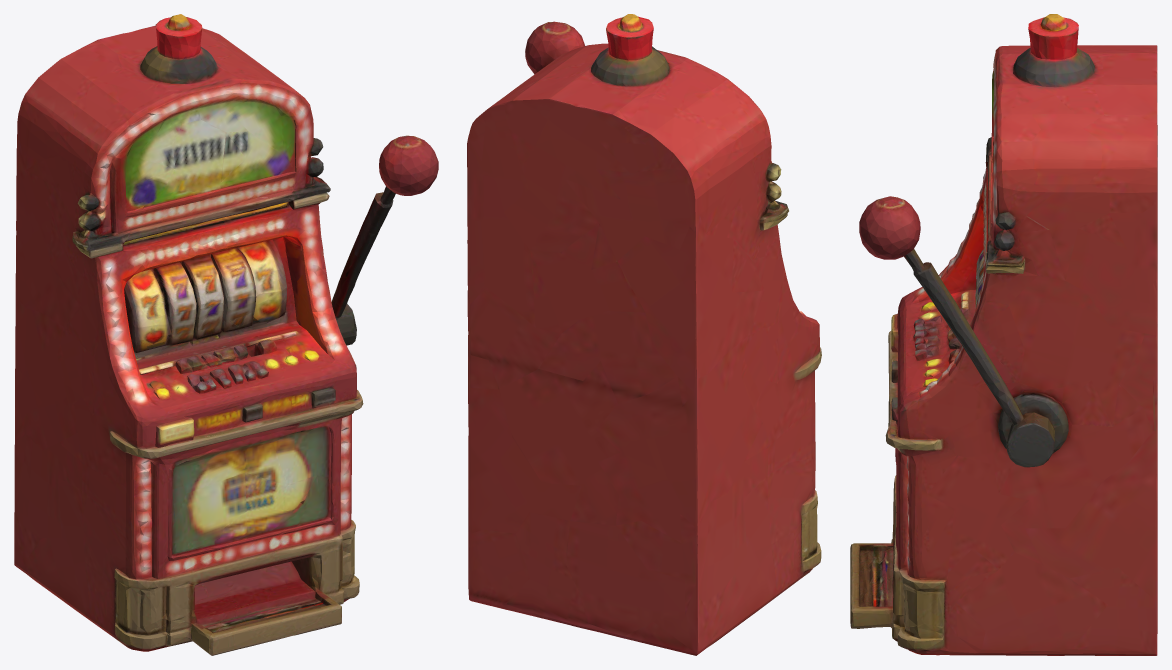
File: slot-bulb-classic.glb
3 renders of one model, left to right at view 1: azimuth 30°, elevation 25°; view 2: azimuth 150°, elevation 25°; view 3: azimuth 270°, elevation 25°, orthographic. The views are drawn at different scales.
Visible parts, largest first — view 1: slot-bulb-classic_0; view 2: slot-bulb-classic_0; view 3: slot-bulb-classic_0.
Boxes of the visible parts, left/top/right/bottom form: slot-bulb-classic_0: left=14, top=14, right=438, bottom=655; slot-bulb-classic_0: left=467, top=14, right=821, bottom=655; slot-bulb-classic_0: left=850, top=14, right=1157, bottom=655.
Bounding box in the file's own units: 1.05 × 1.85 × 0.8795.
Materials: 1 (1 with a texture image).
